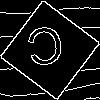C: (25, 25, 67, 76)
